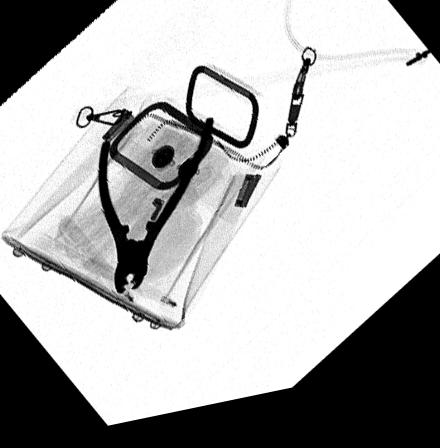Pliers: (97, 127, 215, 302)
